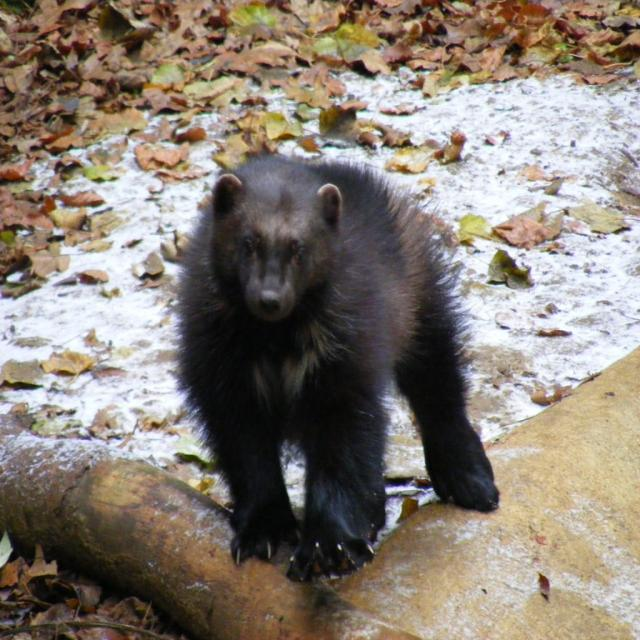Bear: (170, 153, 501, 583)
